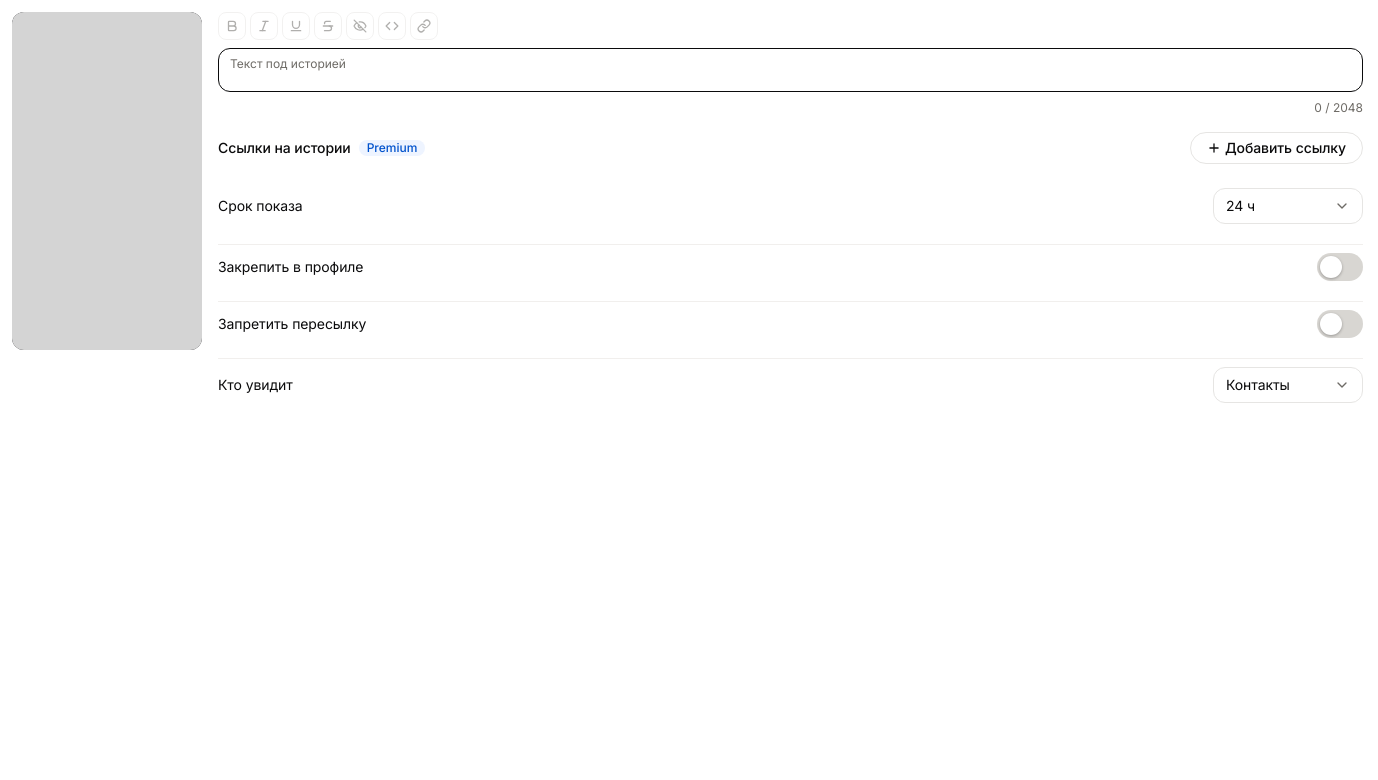
it: a free account is told exactly what will be stripped
Click the dropdown named "Срок показа" at coordinates (1288, 206), box [1213,188,1363,224]
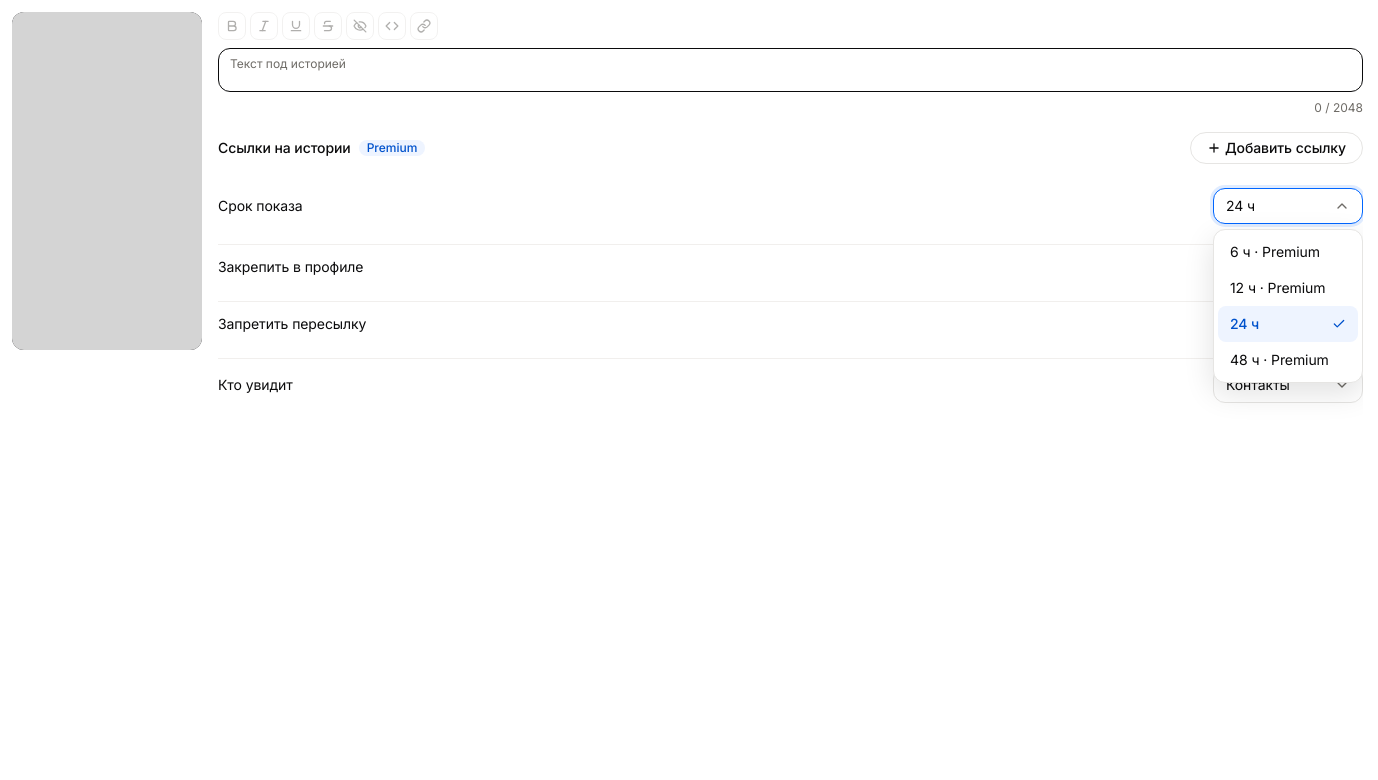
Click the option "48 ч · Premium" at coordinates (1288, 360), box [1218,342,1358,378]
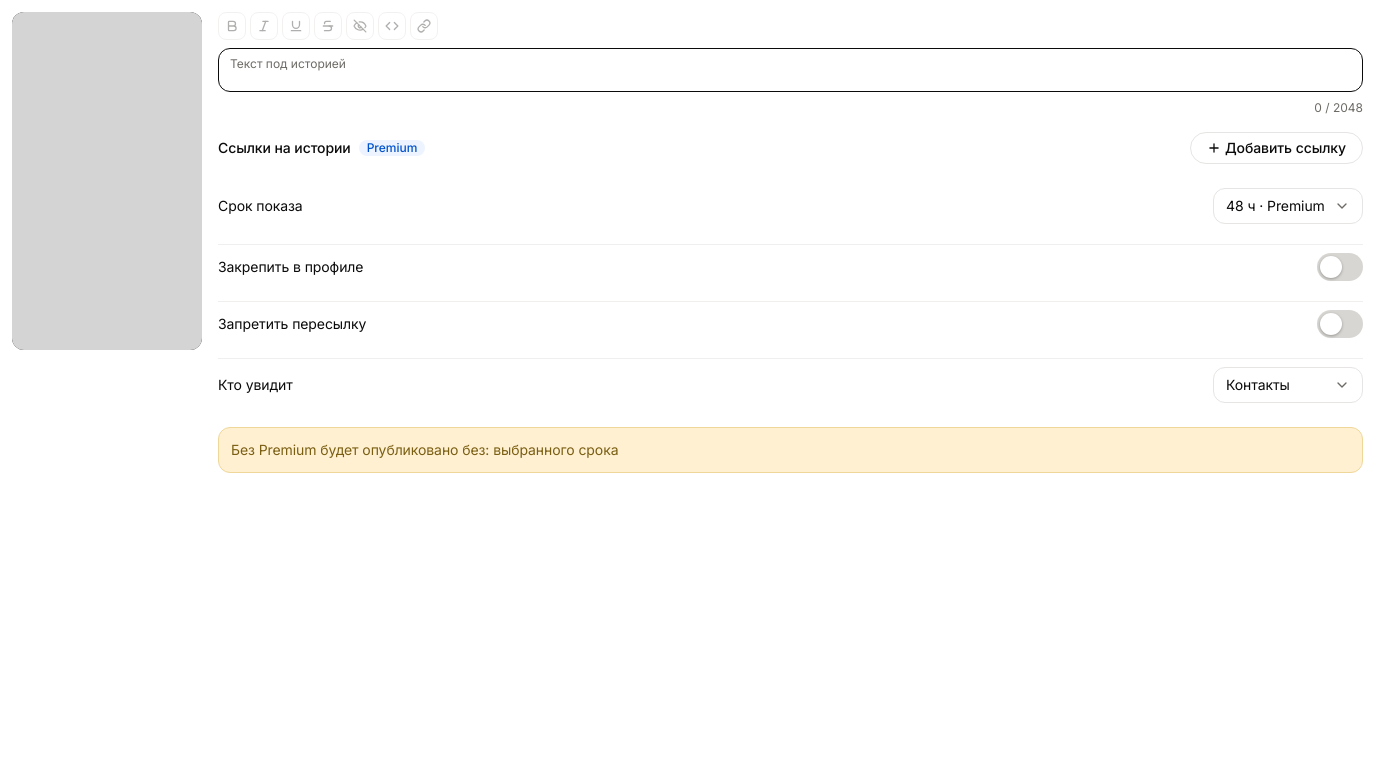
Click the button "Добавить ссылку" at coordinates (1276, 148), box [1190,132,1363,164]
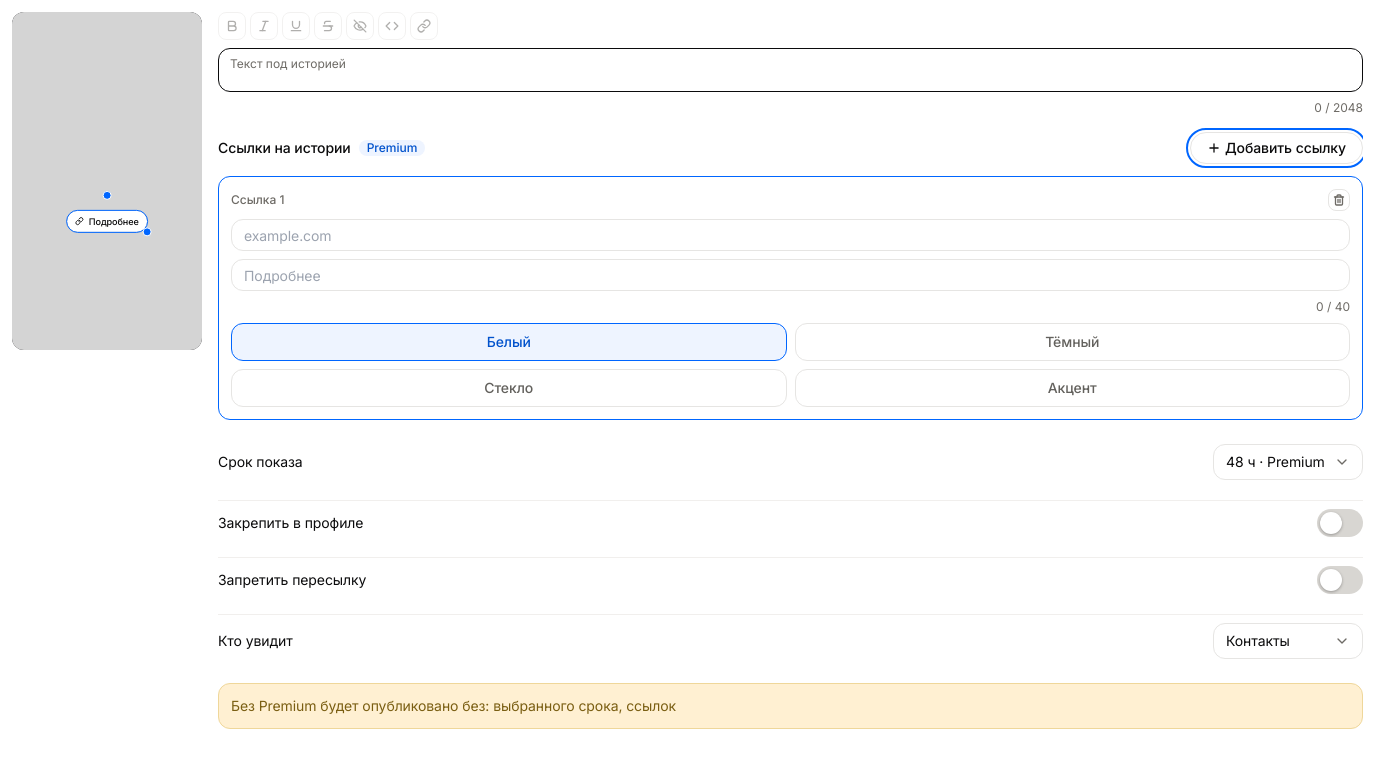
Expected: the message reads "Без Premium будет опубликовано без: выбранного срока, ссылок", [231,697,676,714]
